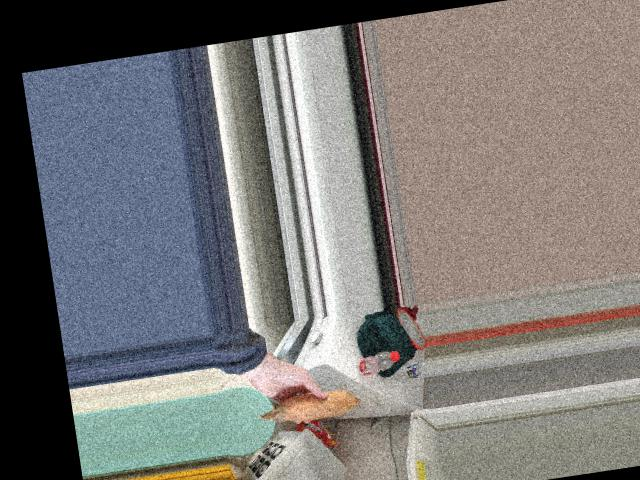sweet_potato: (270, 388, 359, 424)
